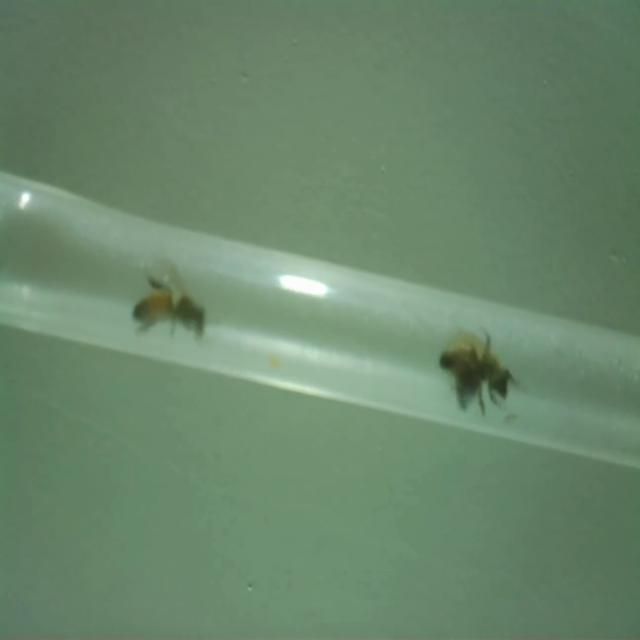Honeybee-Detection: (439, 328, 518, 415), (131, 253, 206, 340)
